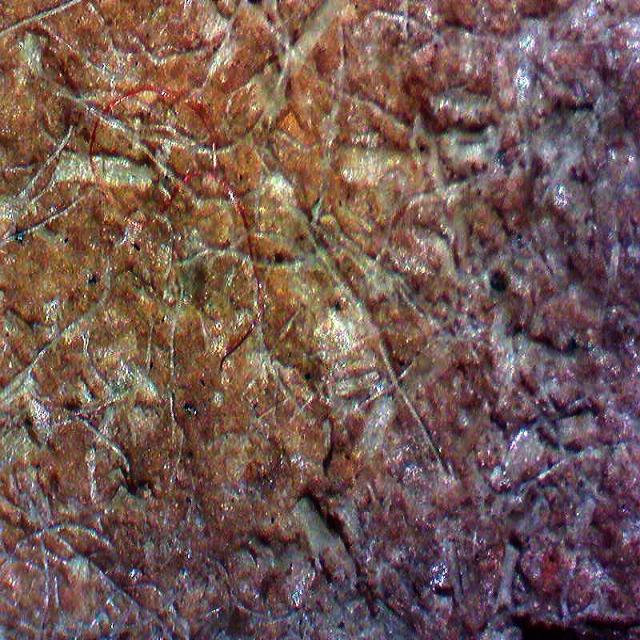microplastic: (126, 153, 303, 374), (64, 62, 219, 197)
